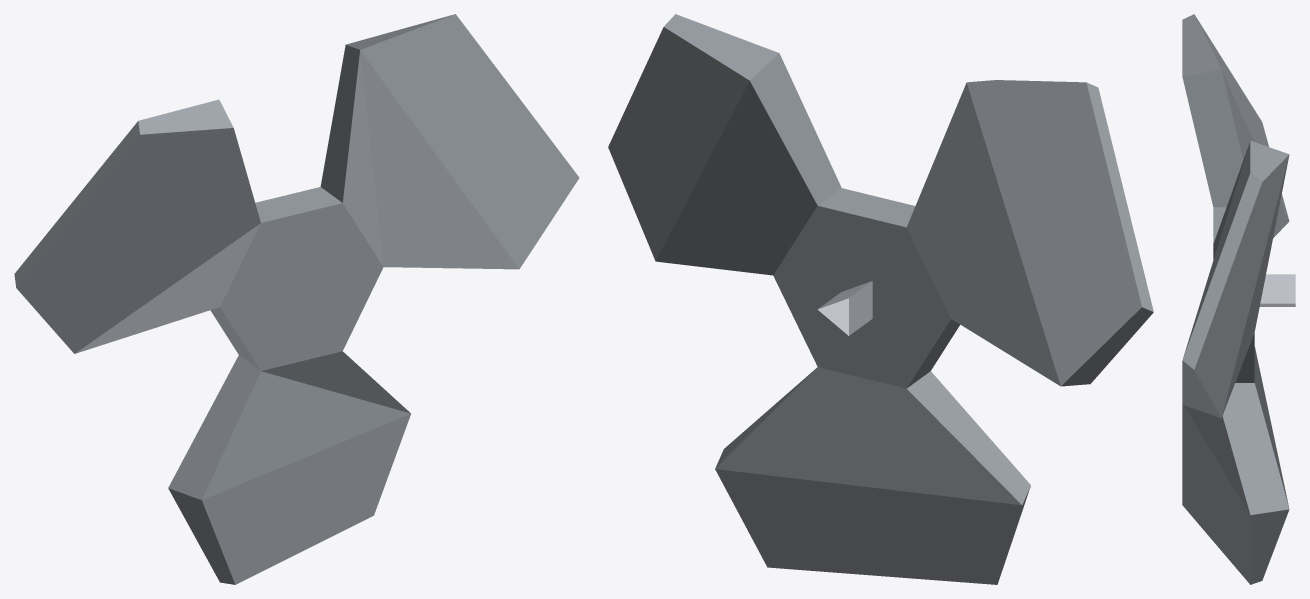
The model's file is SM_Prop_WallFan_Blades_01.obj.
The picture shows the model from 3 angles, left to right: view 1: azimuth 30°, elevation 25°; view 2: azimuth 150°, elevation 25°; view 3: azimuth 270°, elevation 25°; orthographic projection. The views are drawn at different scales.
Visible parts, largest first — view 1: SM_Prop_WallFan_Blades_01_0; view 2: SM_Prop_WallFan_Blades_01_0; view 3: SM_Prop_WallFan_Blades_01_0.
Boxes of the visible parts, x1=… form: SM_Prop_WallFan_Blades_01_0: x1=14, y1=14, x2=579, y2=584; SM_Prop_WallFan_Blades_01_0: x1=608, y1=14, x2=1153, y2=584; SM_Prop_WallFan_Blades_01_0: x1=1182, y1=14, x2=1295, y2=584.
Size of the model in its own units: 0.5465 by 0.4732 by 0.1078.
1 material, 1 textured.
